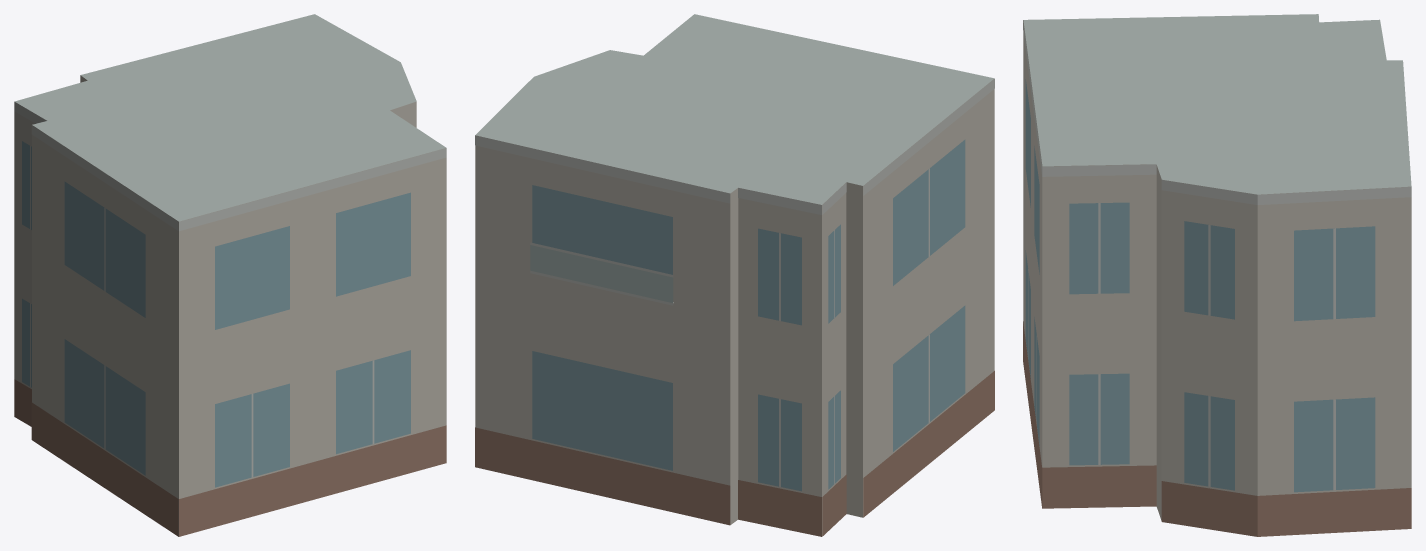
File: survey-upis-32632420.glb
3 views of the same model, side by side, from view 1: azimuth 30°, elevation 25°; view 2: azimuth 150°, elevation 25°; view 3: azimuth 270°, elevation 25° (orthographic). The views are drawn at different scales.
Parts seen in each view (by area): view 1: survey-upis-32632420.tmp; view 2: survey-upis-32632420.tmp; view 3: survey-upis-32632420.tmp.
Part boxes in pixels (<box>): survey-upis-32632420.tmp: <box>14,14,446,536</box>; survey-upis-32632420.tmp: <box>475,14,994,536</box>; survey-upis-32632420.tmp: <box>1023,14,1411,536</box>.
Size of the model in its own units: 8.95 by 7.9 by 8.13.
